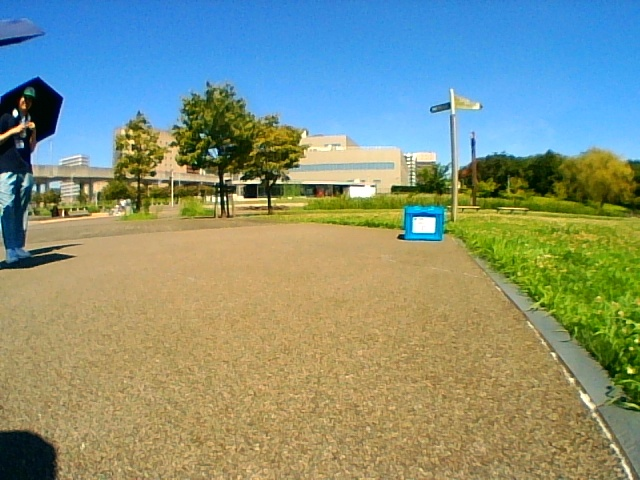blue_box: (405, 206, 442, 239)
tag: (413, 217, 435, 233)
